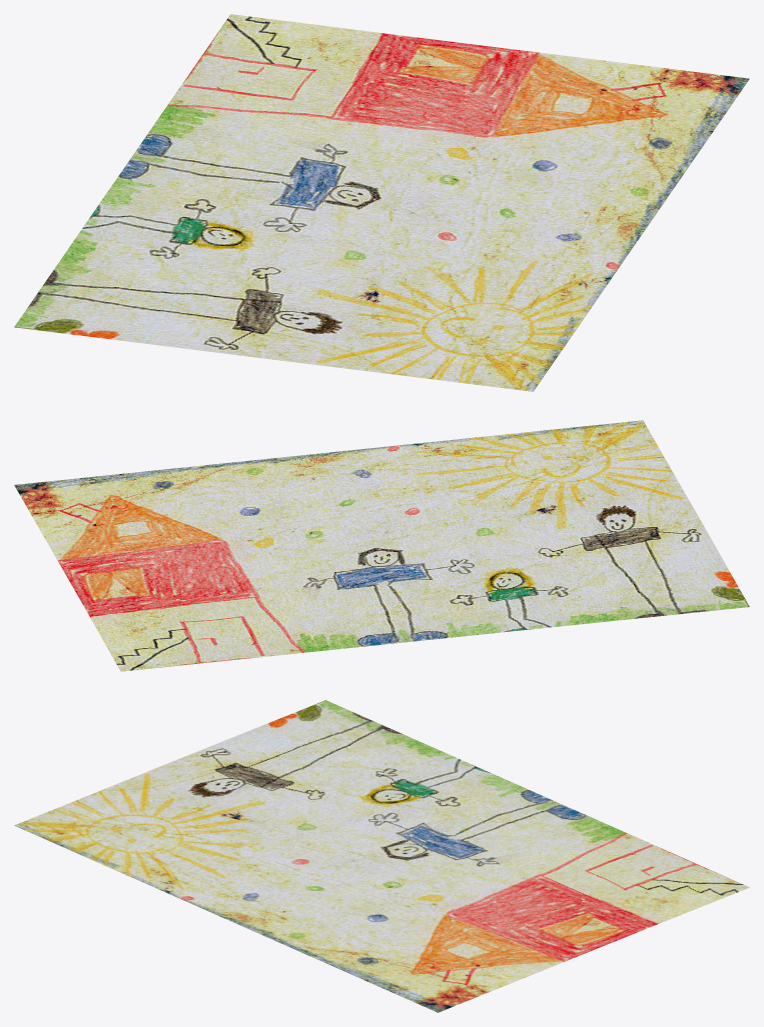
The model's file is Paper3.fbx.
3 views of the same model, one above another, from view 1: azimuth 30°, elevation 25°; view 2: azimuth 150°, elevation 25°; view 3: azimuth 270°, elevation 25° (orthographic). The views are drawn at different scales.
Visible parts, largest first — view 1: Paper3:pPlane3; view 2: Paper3:pPlane3; view 3: Paper3:pPlane3.
Boxes of the visible parts, <box> form: Paper3:pPlane3: <box>14,14,749,391</box>; Paper3:pPlane3: <box>14,420,749,671</box>; Paper3:pPlane3: <box>14,700,749,1012</box>.
Bounding box in the file's own units: 6.02 × 0.0022 × 5.98.
Materials: 1 (1 with a texture image).
